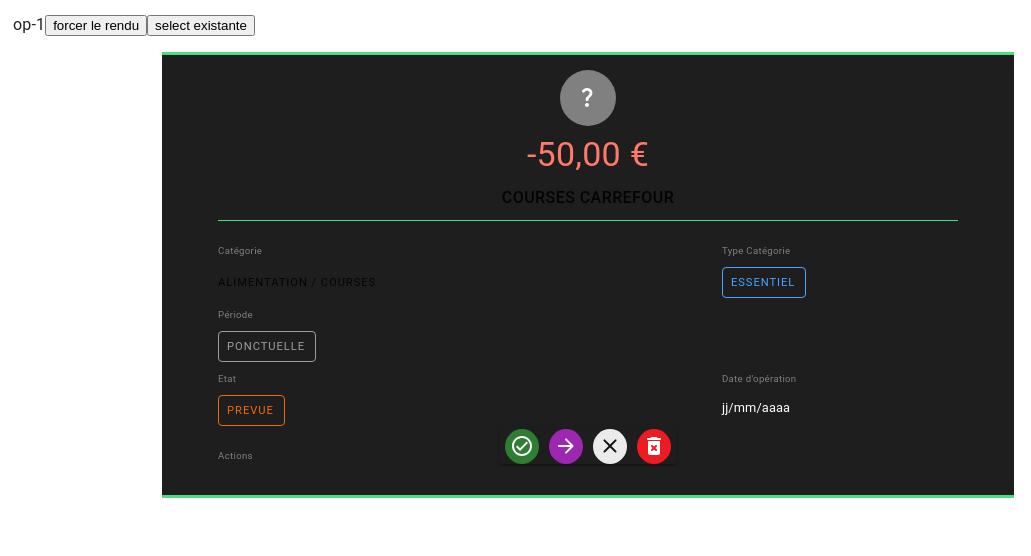
OperationDetailPage - intégration › ouverture de l'édition au clic sur un champ › un seul clic sur le champ dateOperation l'ouvre, sans re-rendu forcé
The image size is (1031, 556).
Click the heading "jj/mm/aaaa".
click(756, 408)  # box [722,400,790,415]
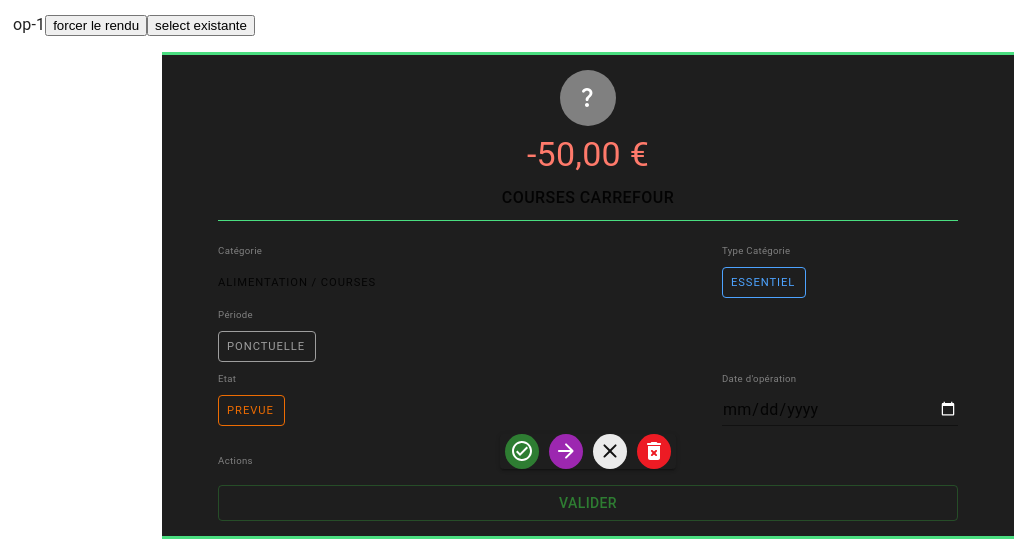
Check: the date field with id "OPERATION_DATE_OPERATION_INPUT" is shown, box [722,397,958,426]
Check: the button "Valider" is shown, box [218,485,958,522]
